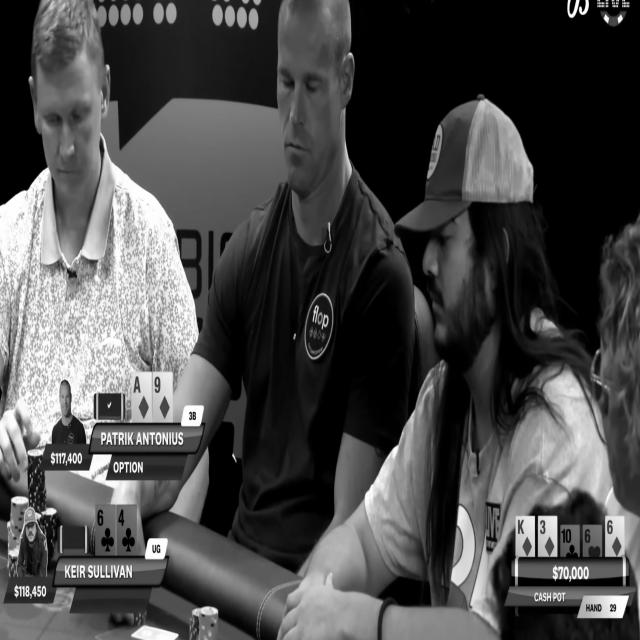10C: (561, 526, 579, 558)
3D: (539, 517, 557, 557)
4C: (117, 507, 136, 555)
6C: (96, 506, 115, 554)
6D: (606, 516, 624, 556)
6H: (584, 526, 602, 557)
9D: (153, 375, 172, 421)
AD: (132, 373, 152, 421)
KD: (516, 517, 534, 557)
